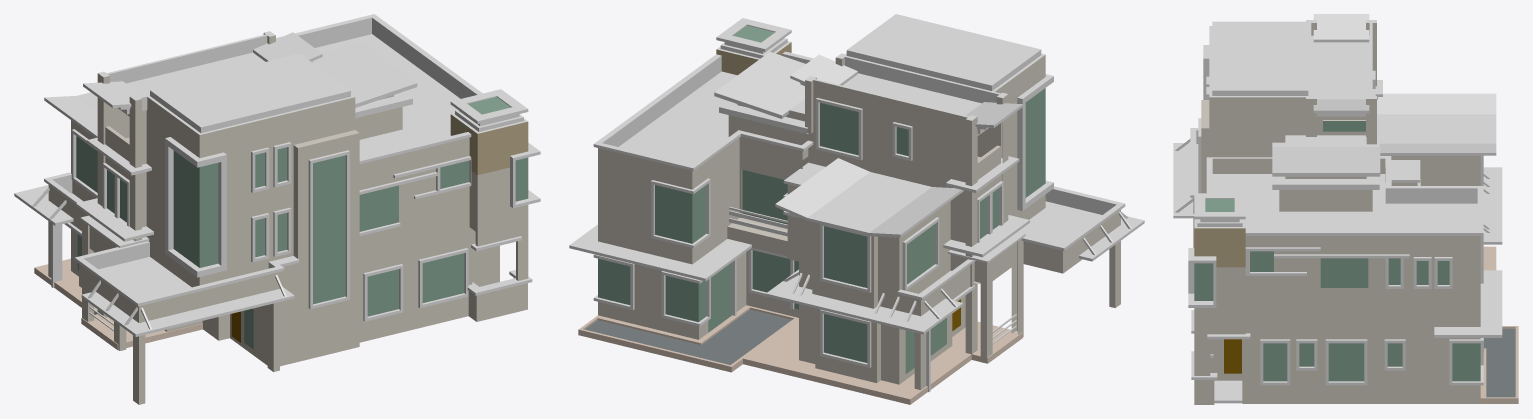
File: building.dae
The picture shows the model from 3 angles, left to right: view 1: azimuth 30°, elevation 25°; view 2: azimuth 150°, elevation 25°; view 3: azimuth 270°, elevation 25°; orthographic projection. The views are drawn at different scales.
Visible parts, largest first — view 1: bungalow-2; view 2: bungalow-2; view 3: bungalow-2.
Part boxes in pixels (<box>): bungalow-2: <box>14,14,540,404</box>; bungalow-2: <box>569,14,1144,404</box>; bungalow-2: <box>1173,14,1518,404</box>.
Bounding box in the file's own units: 22.75 × 17.26 × 13.1.
